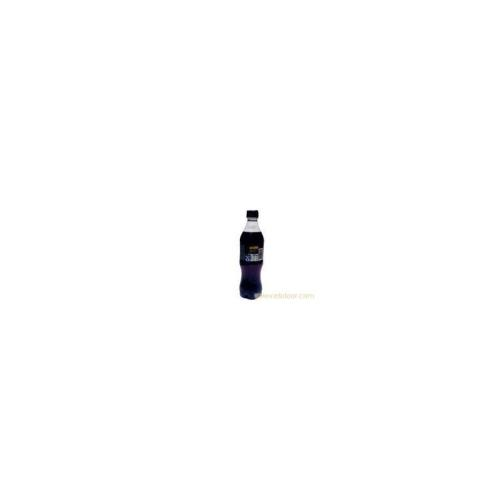coke_zero: (233, 207, 273, 303)
